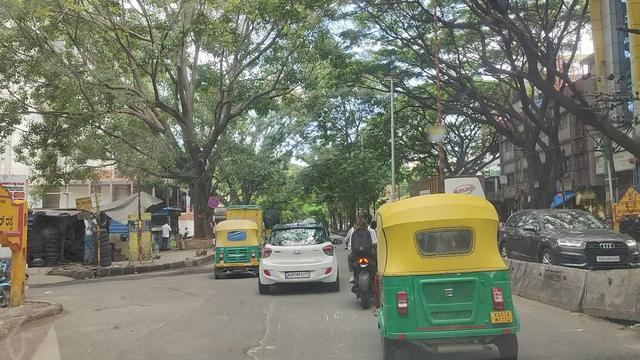LMV: (374, 196, 515, 352), (259, 223, 335, 287), (348, 210, 378, 302), (216, 221, 260, 270)
RoadDamages: (152, 298, 207, 334), (216, 324, 271, 358), (93, 299, 150, 316), (68, 322, 115, 338), (261, 292, 279, 323)
